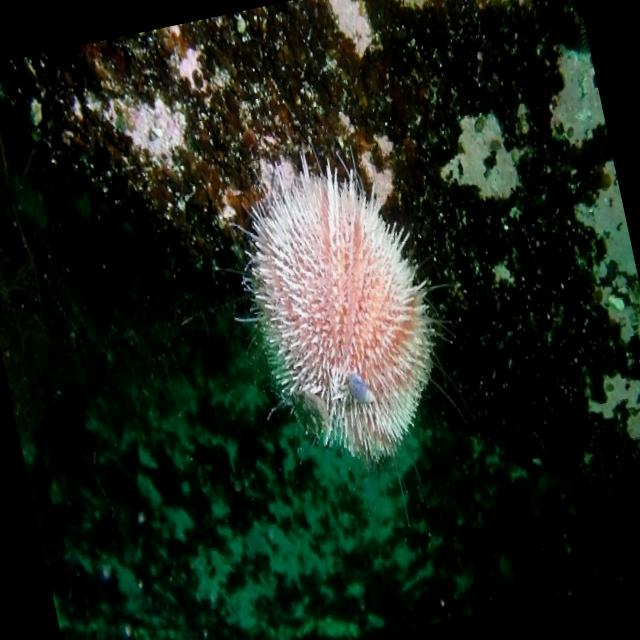Deniz Kestanesi: (192, 123, 504, 559)
